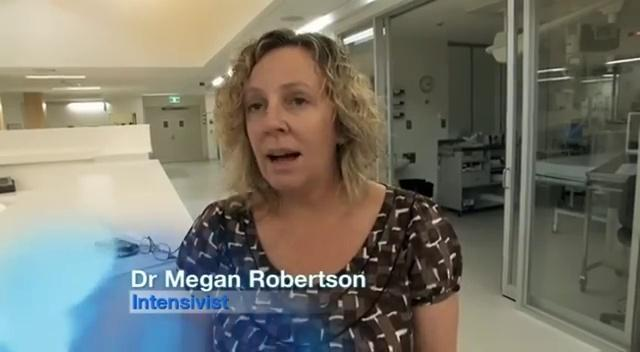others: (174, 27, 464, 351)
